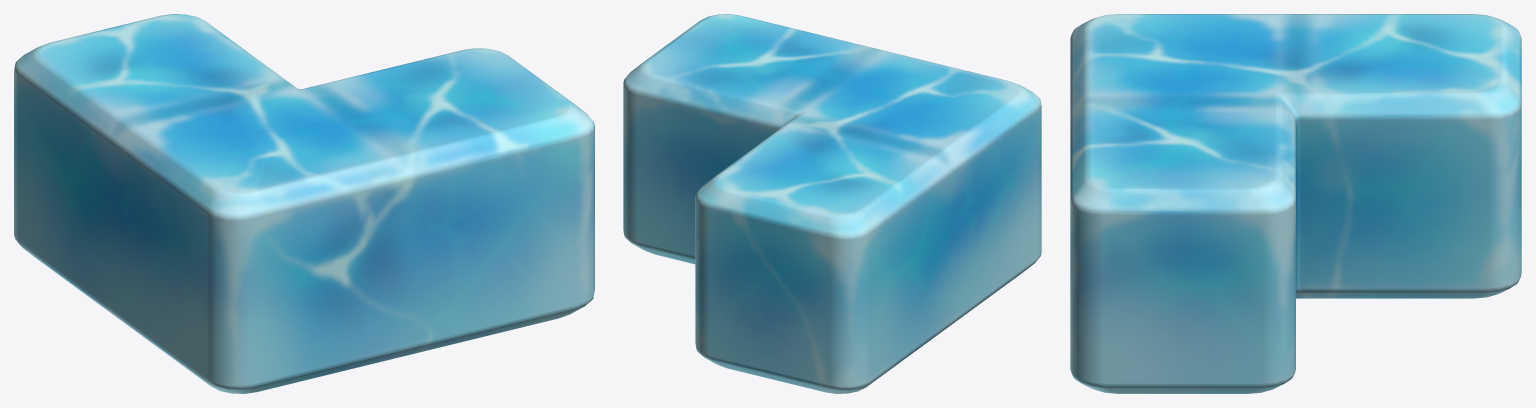
Rendered from Ice_Block_02.fbx.
3 views of the same model, side by side, from view 1: azimuth 30°, elevation 25°; view 2: azimuth 150°, elevation 25°; view 3: azimuth 270°, elevation 25° (orthographic). The views are drawn at different scales.
Visible parts, largest first — view 1: Ice_Block_02; view 2: Ice_Block_02; view 3: Ice_Block_02.
Part boxes in pixels (box(x1,y1,x2,y2)): Ice_Block_02: box(14, 14, 594, 393); Ice_Block_02: box(623, 14, 1041, 393); Ice_Block_02: box(1070, 14, 1521, 393).
Size of the model in its own units: 2 by 0.998 by 2.
Materials: 1 (1 with a texture image).
